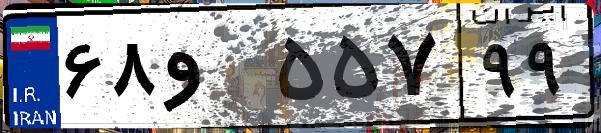5: (270, 28, 330, 110), (330, 28, 385, 110)
6: (57, 26, 110, 100)
7: (385, 28, 445, 110)
8: (110, 28, 158, 98)
9: (475, 38, 525, 113), (525, 38, 570, 115)
و: (158, 20, 270, 120)
